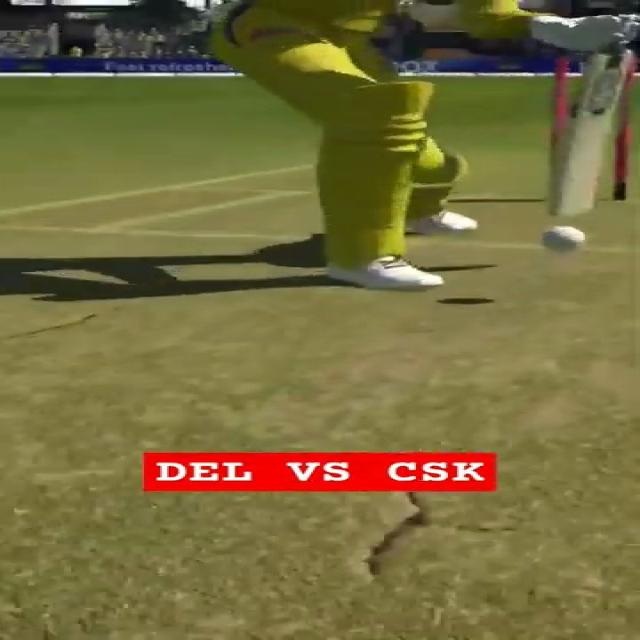ball: (537, 225, 587, 254)
